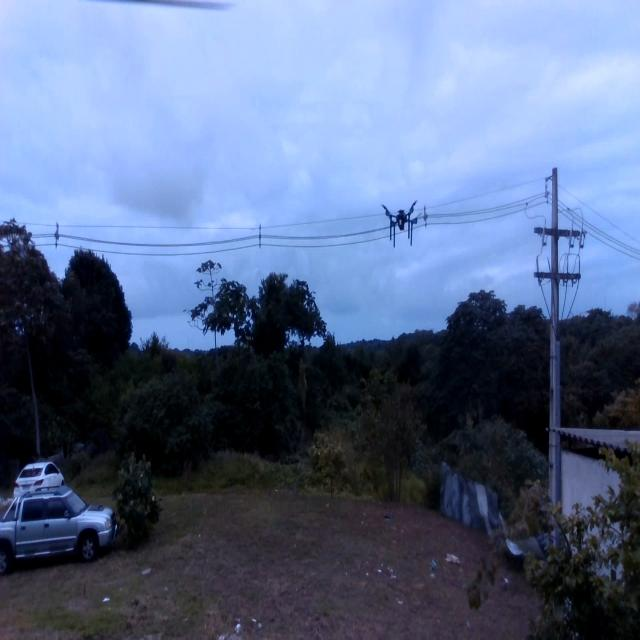-uav-: (375, 190, 427, 260)
